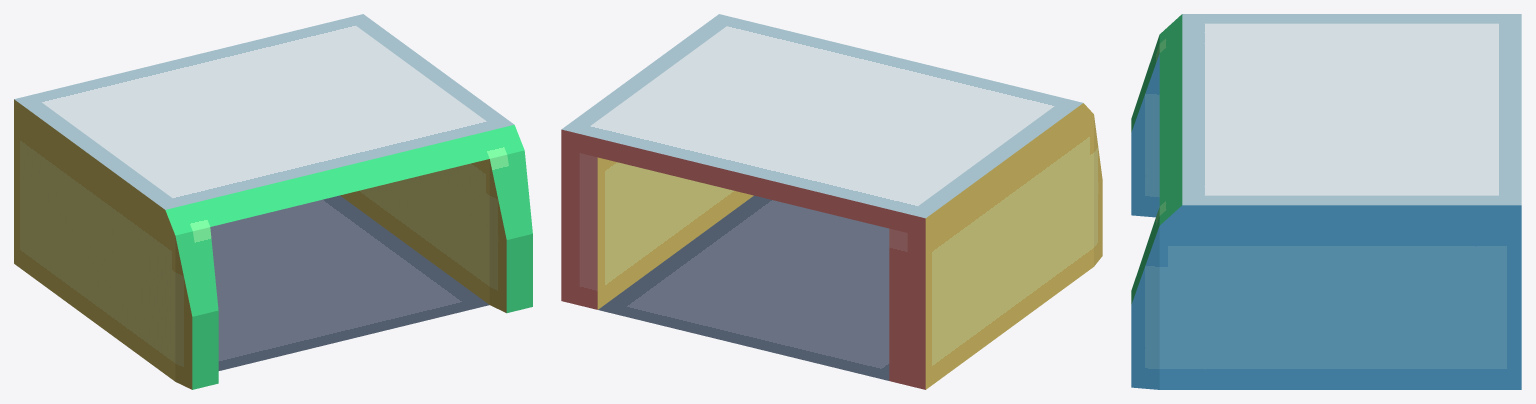
Rendered from TestTunnel90.fbx.
3 views of the same model, side by side, from view 1: azimuth 30°, elevation 25°; view 2: azimuth 150°, elevation 25°; view 3: azimuth 270°, elevation 25° (orthographic). The views are drawn at different scales.
Visible parts, largest first — view 1: mesh; view 2: mesh; view 3: mesh.
Boxes of the visible parts, x1=… form: mesh: x1=14, y1=14, x2=532, y2=389; mesh: x1=561, y1=14, x2=1102, y2=389; mesh: x1=1131, y1=14, x2=1521, y2=389.
Size of the model in its own units: 125 by 56.25 by 108.
Materials: 1 (1 with a texture image).
